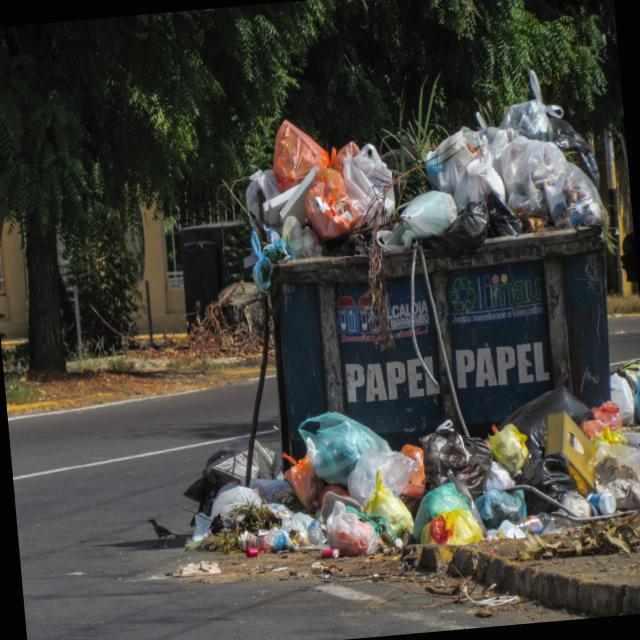garbage: (177, 94, 640, 608)
